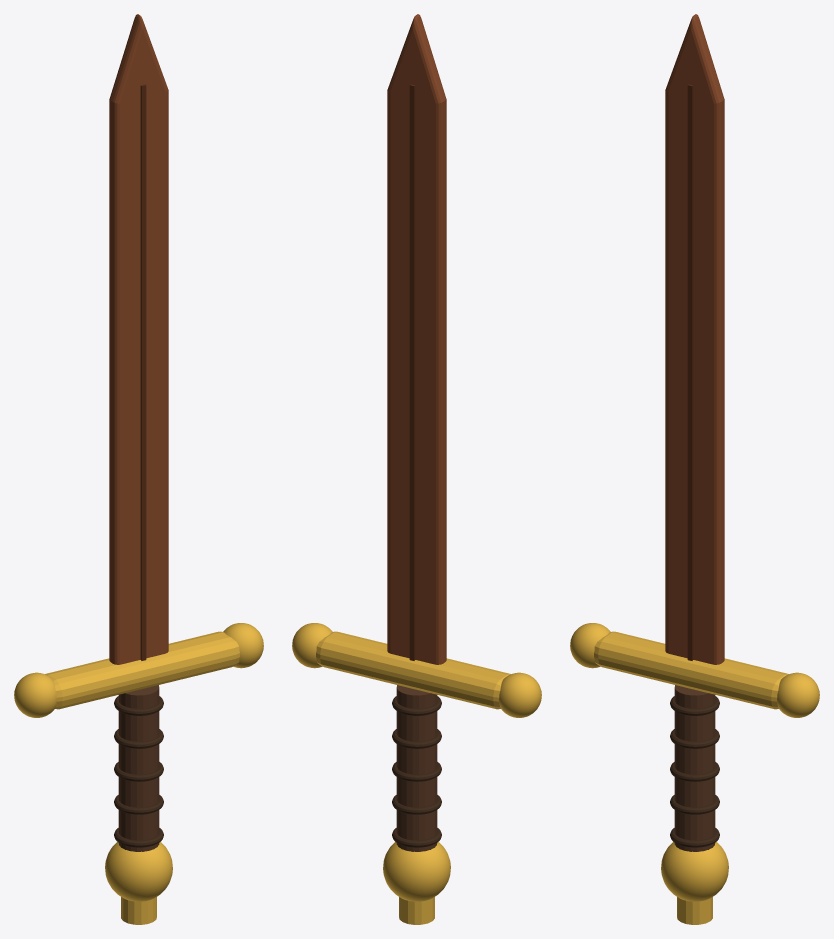
File: espada.glb
3 renders of one model, left to right at view 1: azimuth 30°, elevation 25°; view 2: azimuth 150°, elevation 25°; view 3: azimuth 330°, elevation 25°, orthographic.
Visible parts, largest first — view 1: hoja, Cube.001, Cylinder, Cube, Sphere.002, Sphere, Sphere.001, Cylinder.001; view 2: hoja, Cube.001, Cylinder, Cube, Sphere.002, Sphere, Sphere.001, Cylinder.001; view 3: hoja, Cube.001, Cylinder, Cube, Sphere.002, Sphere.001, Sphere, Cylinder.001.
Part boxes in pixels (x1,y1,x2,y2): hoja: [109, 14, 168, 664]; Cube.001: [45, 631, 239, 709]; Cylinder: [118, 685, 159, 851]; Cube: [140, 84, 146, 660]; Sphere.002: [105, 842, 172, 901]; Sphere: [14, 672, 56, 717]; Sphere.001: [223, 623, 263, 668]; Cylinder.001: [121, 897, 156, 924]; hoja: [387, 14, 446, 664]; Cube.001: [316, 631, 510, 709]; Cylinder: [396, 685, 437, 851]; Cube: [409, 84, 415, 660]; Sphere.002: [383, 842, 450, 901]; Sphere: [499, 672, 541, 717]; Sphere.001: [292, 623, 332, 668]; Cylinder.001: [399, 897, 434, 924]; hoja: [665, 14, 724, 664]; Cube.001: [594, 631, 788, 709]; Cylinder: [674, 685, 715, 851]; Cube: [687, 84, 693, 660]; Sphere.002: [661, 842, 728, 901]; Sphere.001: [777, 672, 819, 717]; Sphere: [570, 623, 610, 668]; Cylinder.001: [677, 897, 712, 924].
Size of the model in its own units: 0.62 by 2.19 by 0.15.
